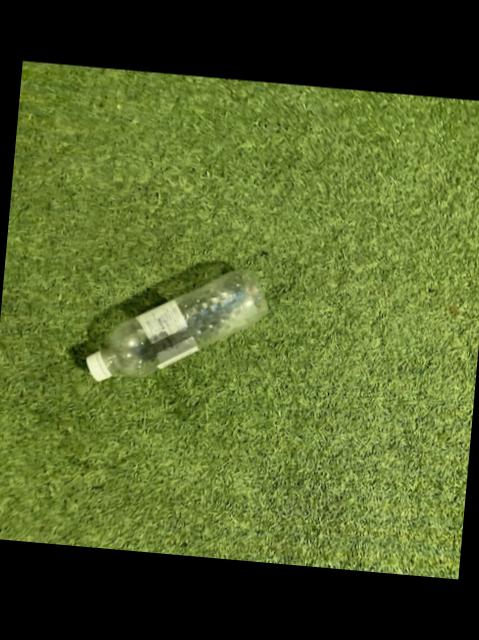plastic: (86, 268, 266, 379)
